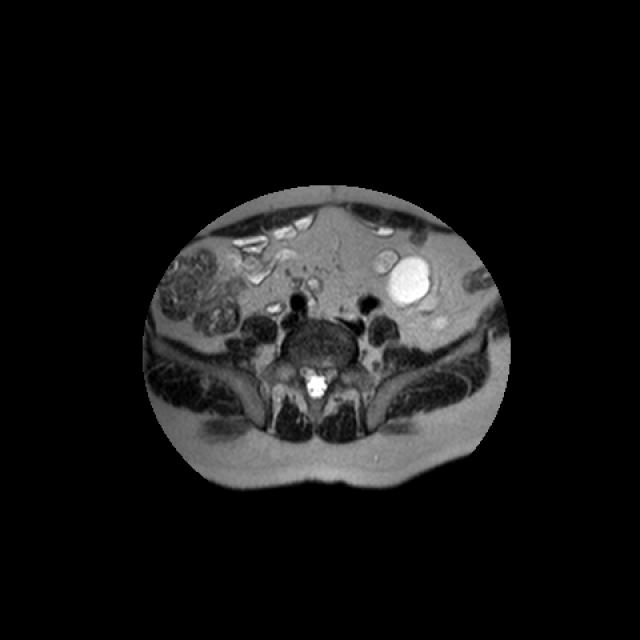sol: (385, 254, 433, 309)
